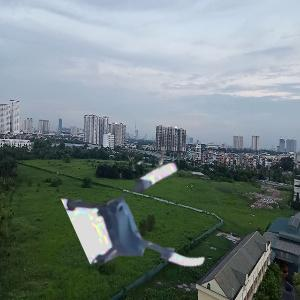drone: (81, 166, 209, 294)
